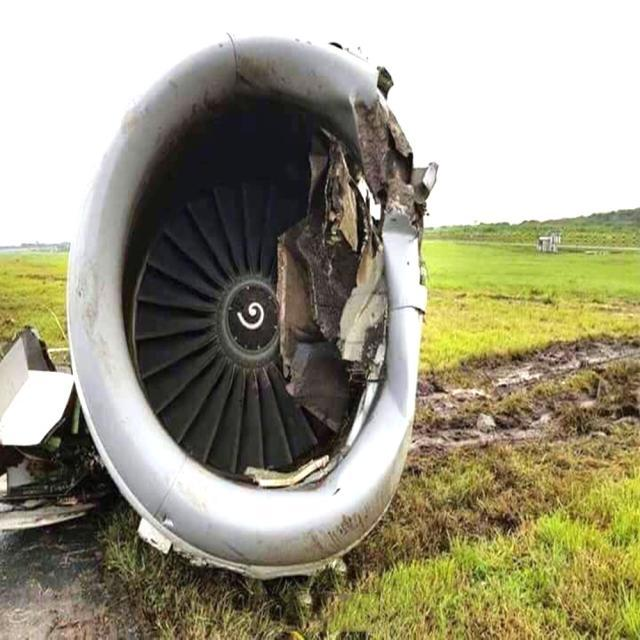dent: (383, 334, 418, 500), (381, 214, 428, 259)
